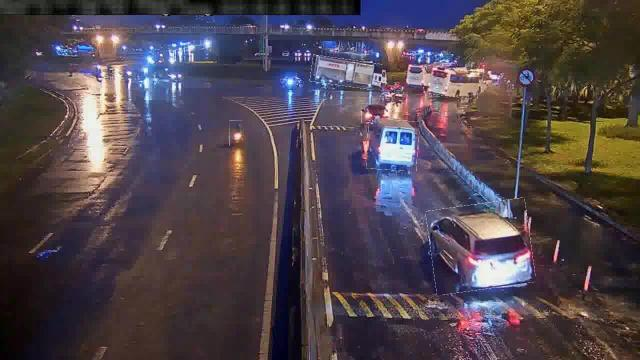Bike: (230, 121, 242, 146)
Bus: (367, 119, 419, 171), (424, 67, 480, 97)
Car: (428, 200, 534, 292), (362, 104, 388, 124)
Truck: (310, 57, 382, 88)
